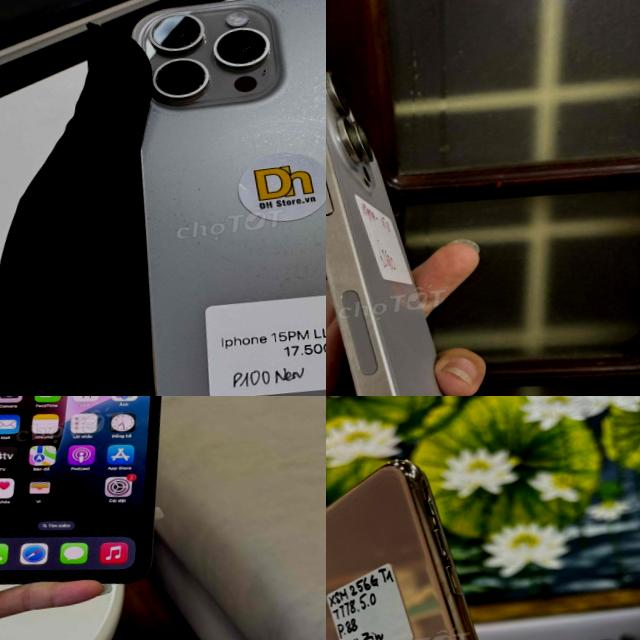gen_11: (0, 396, 160, 583)
gen_15: (54, 0, 326, 396), (326, 33, 504, 396)
gen_x_xs: (326, 438, 584, 640)
scratch: (156, 163, 237, 291), (251, 245, 326, 298), (254, 0, 326, 25)
